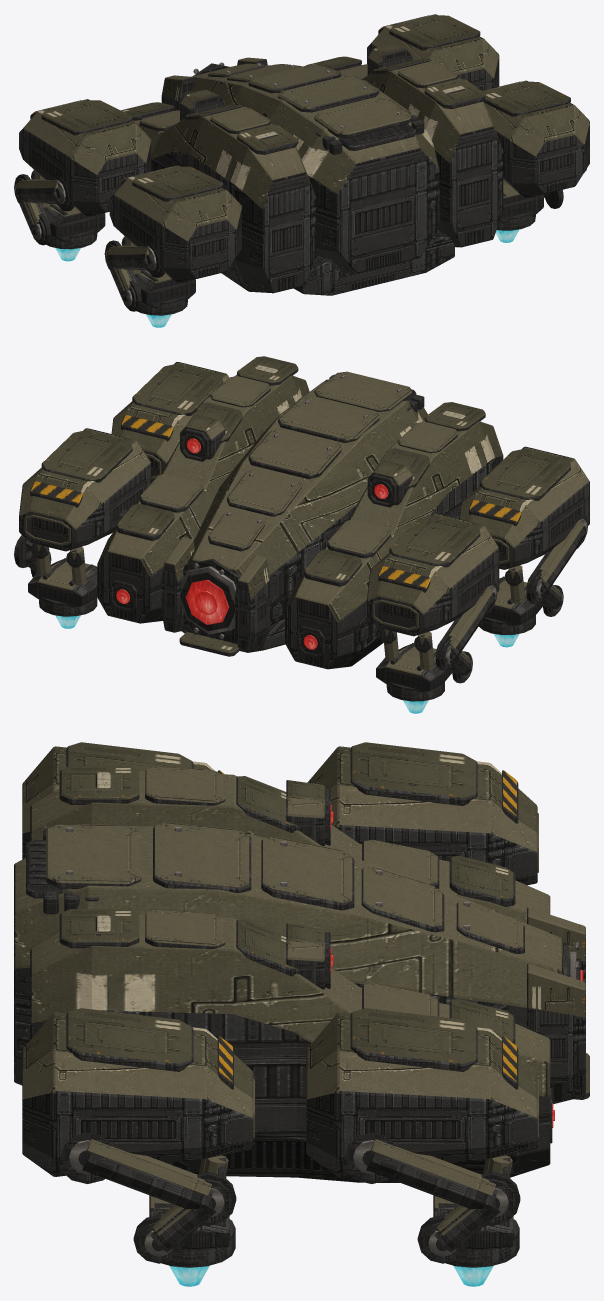
File: grendel-hover.glb
3 renders of one model, top to bottom at view 1: azimuth 30°, elevation 25°; view 2: azimuth 150°, elevation 25°; view 3: azimuth 270°, elevation 25°, orthographic. The views are drawn at different scales.
Parts seen in each view (by area): view 1: Grendel Hover painted hull, FoldedLeg1, FoldedLeg0, FoldedLeg3, FoldedLeg2; view 2: Grendel Hover painted hull, FoldedLeg0, FoldedLeg2, FoldedLeg1, FoldedLeg3; view 3: Grendel Hover painted hull, FoldedLeg2, FoldedLeg3, FoldedLeg0, FoldedLeg1.
Boxes of the visible parts, <box> form: Grendel Hover painted hull: <box>121,44,503,295</box>; FoldedLeg1: <box>104,165,241,315</box>; FoldedLeg0: <box>14,99,151,249</box>; FoldedLeg3: <box>482,80,589,230</box>; FoldedLeg2: <box>367,14,499,90</box>; Grendel Hover painted hull: <box>97,356,503,669</box>; FoldedLeg0: <box>367,513,499,701</box>; FoldedLeg2: <box>14,428,151,616</box>; FoldedLeg1: <box>459,446,589,634</box>; FoldedLeg3: <box>111,362,229,482</box>; Grendel Hover painted hull: <box>14,765,589,1182</box>; FoldedLeg2: <box>306,1008,538,1267</box>; FoldedLeg3: <box>22,1008,254,1267</box>; FoldedLeg0: <box>307,742,538,885</box>; FoldedLeg1: <box>22,742,224,859</box>.
Size of the model in its own units: 10.74 by 4.44 by 7.74.
Materials: 9 (9 with a texture image).
